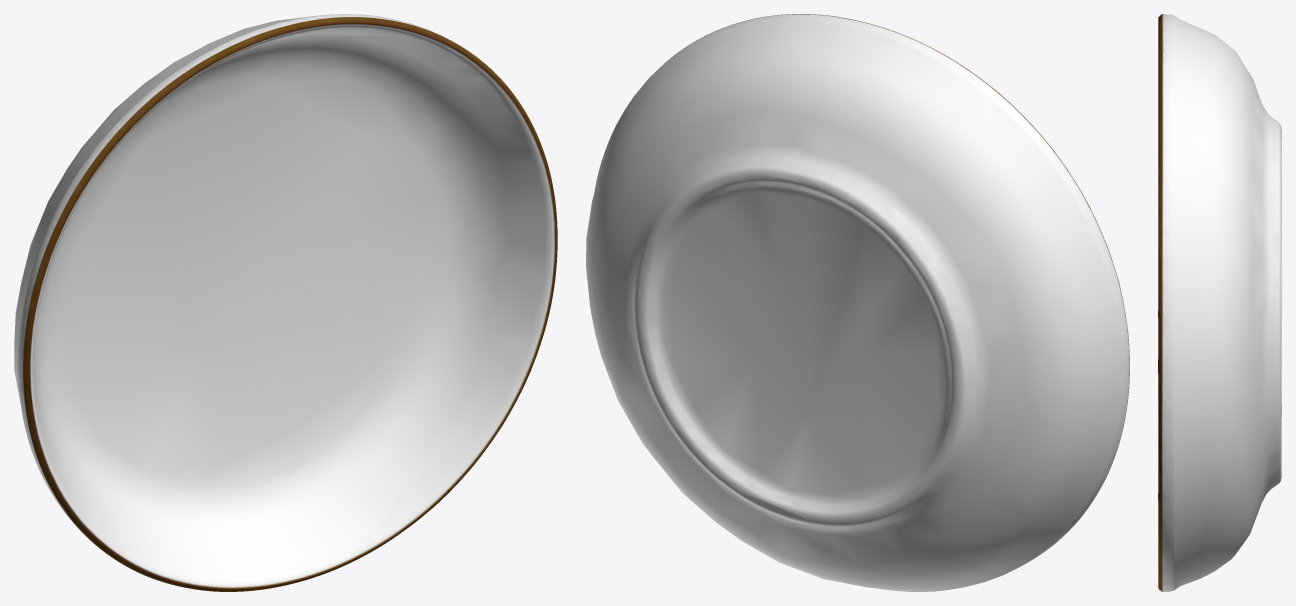
Rendered from gold_rim_dish.obj.
The picture shows the model from 3 angles, left to right: view 1: azimuth 30°, elevation 25°; view 2: azimuth 150°, elevation 25°; view 3: azimuth 270°, elevation 25°; orthographic projection. The views are drawn at different scales.
Visible parts, largest first — view 1: gold_rim_dish; view 2: gold_rim_dish; view 3: gold_rim_dish.
Part boxes in pixels (x1,y1,x2,y2): gold_rim_dish: (14, 14, 557, 591); gold_rim_dish: (586, 14, 1129, 591); gold_rim_dish: (1158, 14, 1281, 591).
Bounding box in the file's own units: 0.2464 × 0.2463 × 0.0529.
Materials: 1 (1 with a texture image).
